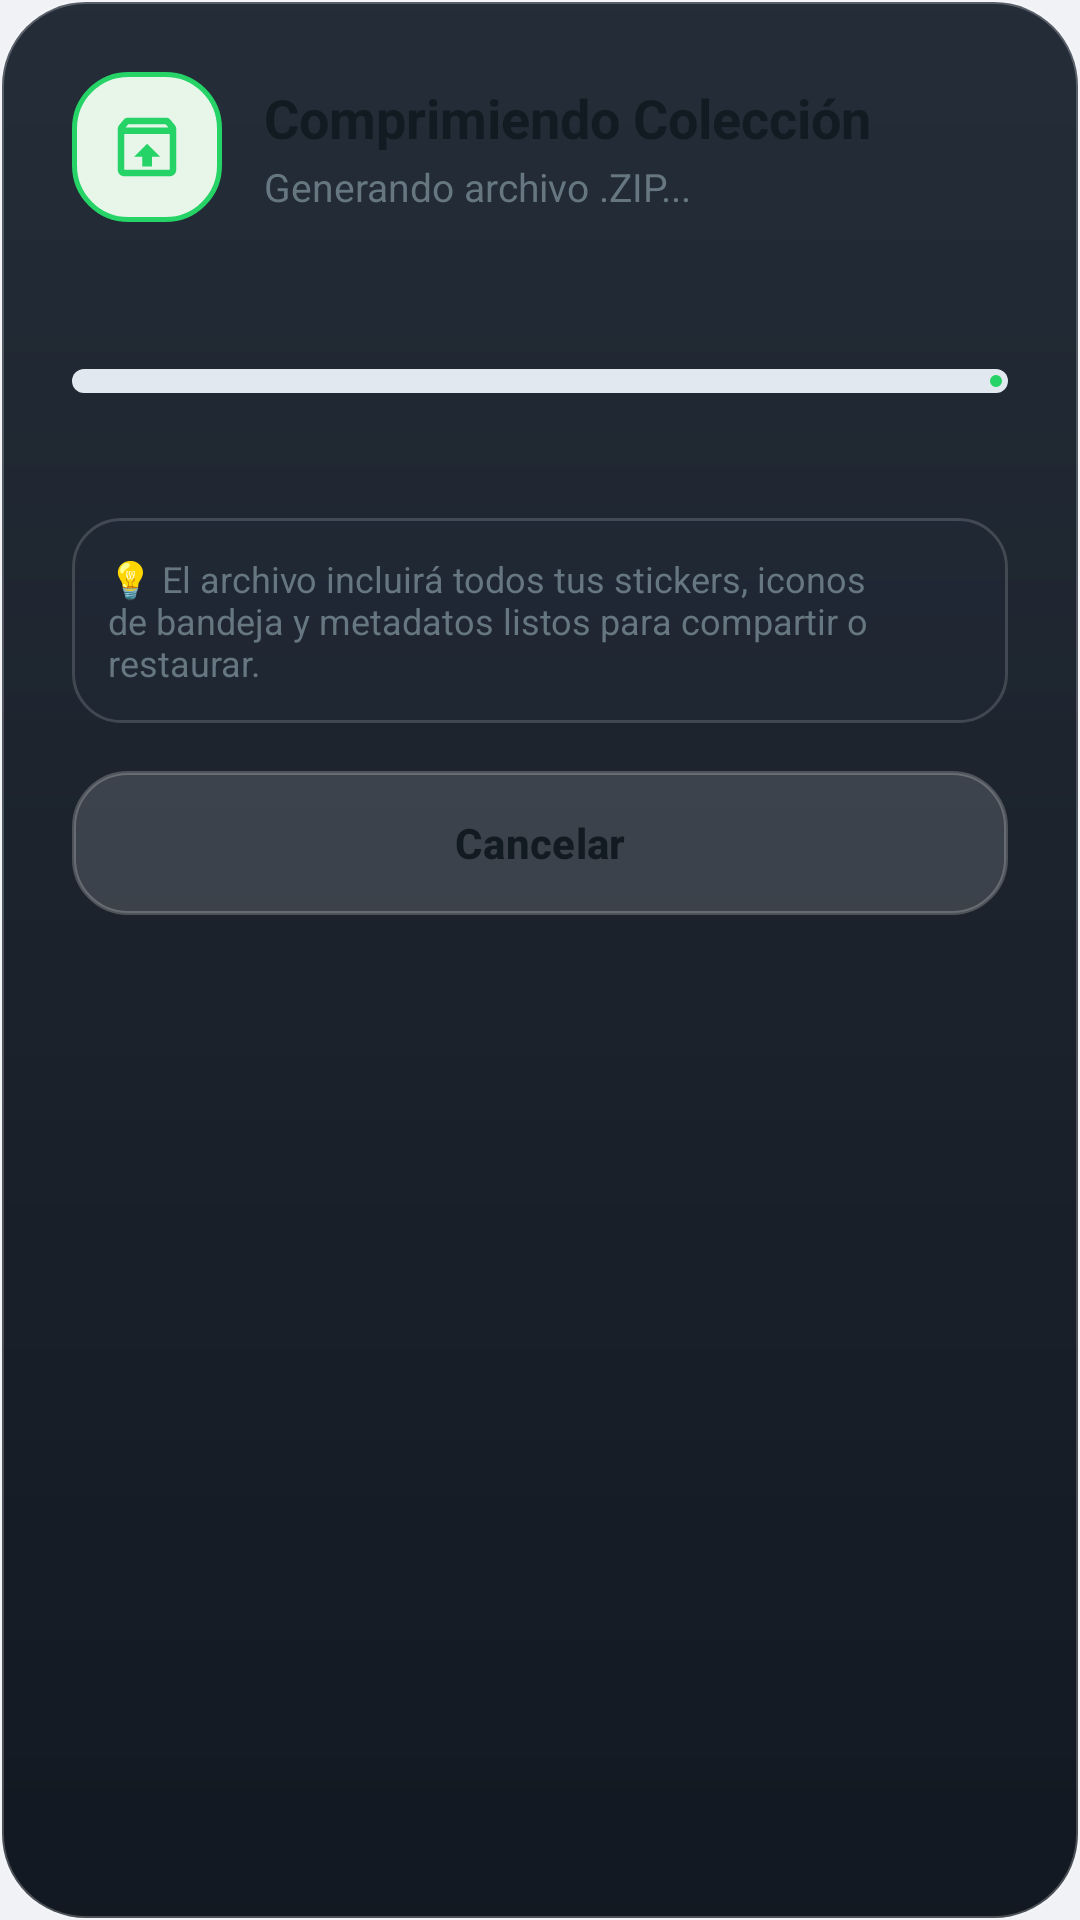

Icons on this 1080px×1920px Android screen, each with its box as (x1, y1, x2, y2):
archive: (117, 117, 177, 177)
